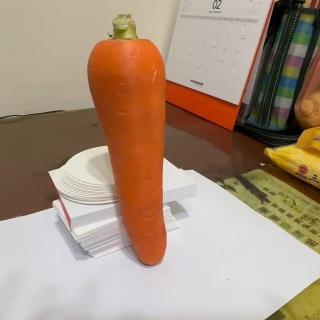carrot: (86, 14, 168, 267)
